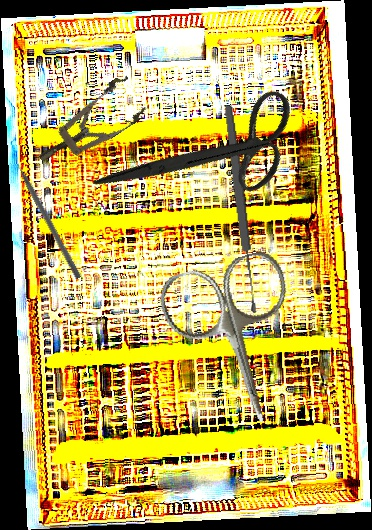Iris Scissors: (91, 38, 320, 271), (153, 246, 322, 441)
Pusher: (9, 150, 83, 280)
Speculum: (26, 72, 152, 178)
Surgical Spoon: (222, 103, 260, 315)
